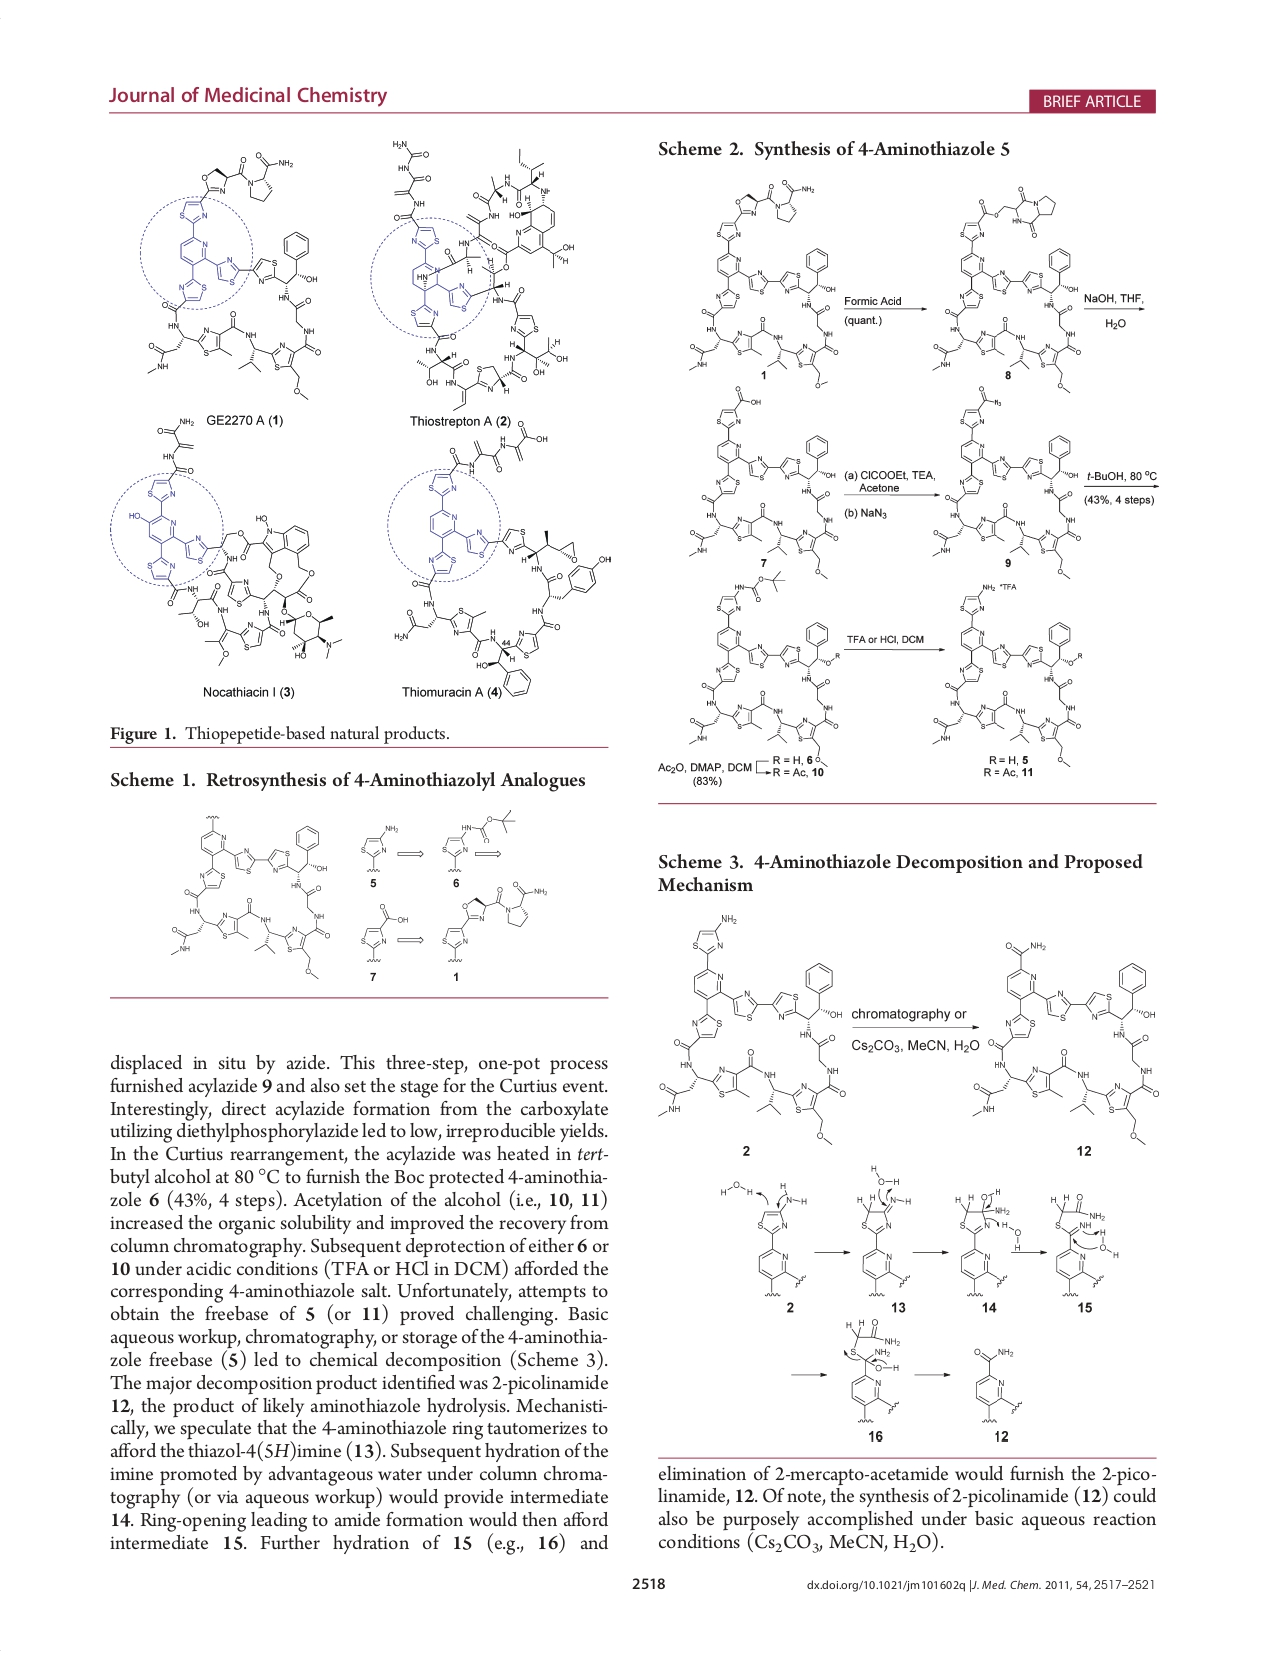exist_molecular: (392, 418, 614, 698), (125, 416, 344, 669), (386, 134, 577, 414), (138, 145, 327, 402), (656, 912, 848, 1146), (969, 938, 1162, 1148), (930, 184, 1085, 395), (686, 178, 840, 390), (688, 568, 844, 767), (930, 384, 1085, 581), (688, 383, 840, 582), (928, 582, 1085, 770), (166, 813, 332, 981), (715, 1178, 810, 1301), (442, 879, 551, 964), (852, 1162, 914, 1301), (1047, 1190, 1121, 1299), (951, 1186, 1023, 1299), (840, 1317, 906, 1426), (438, 807, 519, 872), (967, 1345, 1023, 1426), (356, 902, 410, 965), (360, 823, 399, 874)
